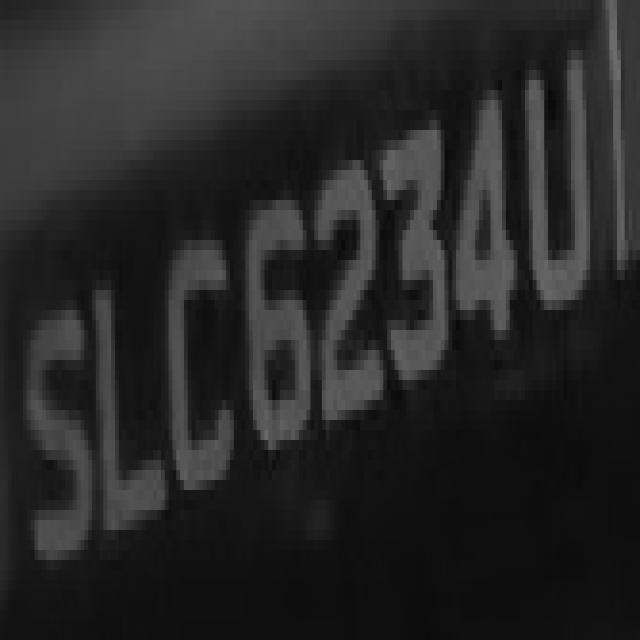2: (311, 130, 384, 450)
3: (379, 110, 456, 440)
4: (452, 100, 521, 380)
6: (238, 160, 306, 490)
C: (165, 200, 234, 520)
L: (84, 230, 161, 560)
S: (15, 280, 92, 590)
U: (517, 40, 598, 320)
